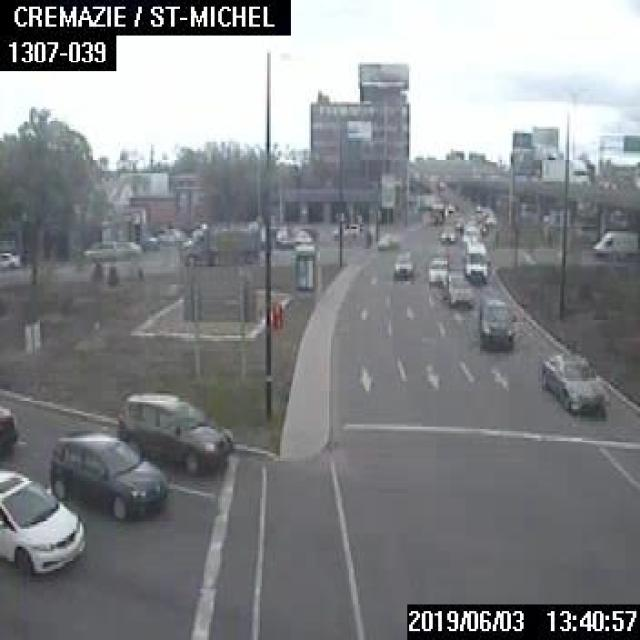vehicle: (49, 430, 166, 519), (117, 391, 232, 473), (0, 468, 85, 575), (539, 349, 609, 415), (179, 222, 260, 263), (475, 296, 514, 346), (591, 227, 638, 259), (84, 239, 139, 262), (463, 240, 489, 284), (0, 404, 18, 456), (445, 272, 472, 306), (426, 254, 447, 285), (393, 248, 412, 278), (332, 222, 360, 236), (376, 232, 398, 249), (0, 250, 20, 268), (461, 224, 480, 242), (438, 224, 456, 242)
